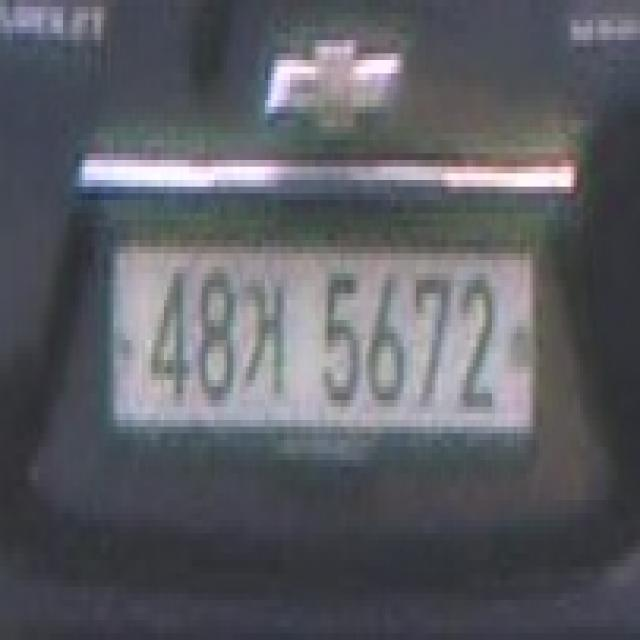2: (458, 268, 498, 418)
4: (144, 256, 192, 421)
5: (319, 260, 362, 420)
6: (364, 263, 408, 417)
7: (413, 264, 451, 418)
8: (197, 262, 237, 418)
geo: (242, 275, 289, 406)
license_plate: (100, 230, 542, 468)
